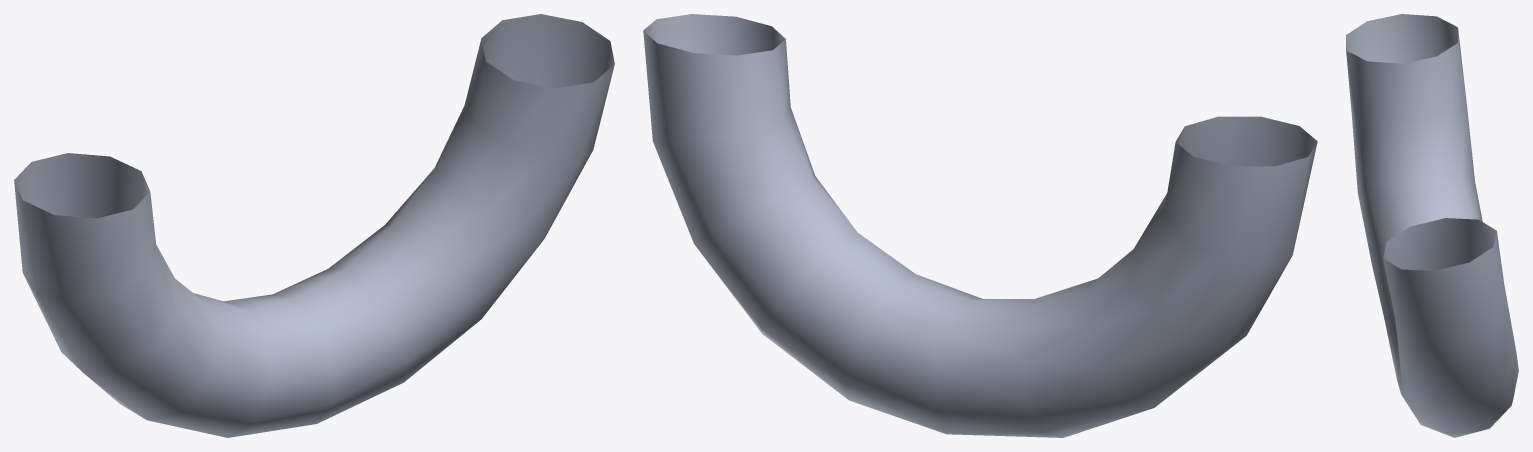
The picture shows the model from 3 angles, left to right: view 1: azimuth 30°, elevation 25°; view 2: azimuth 150°, elevation 25°; view 3: azimuth 270°, elevation 25°; orthographic projection. The views are drawn at different scales.
Parts seen in each view (by area): view 1: Object79; view 2: Object79; view 3: Object79.
Boxes of the visible parts, x1=… form: Object79: x1=14, y1=14, x2=614, y2=437; Object79: x1=643, y1=14, x2=1317, y2=437; Object79: x1=1346, y1=14, x2=1518, y2=437.
Bounding box in the file's own units: 50496 × 25845 × 14470.
